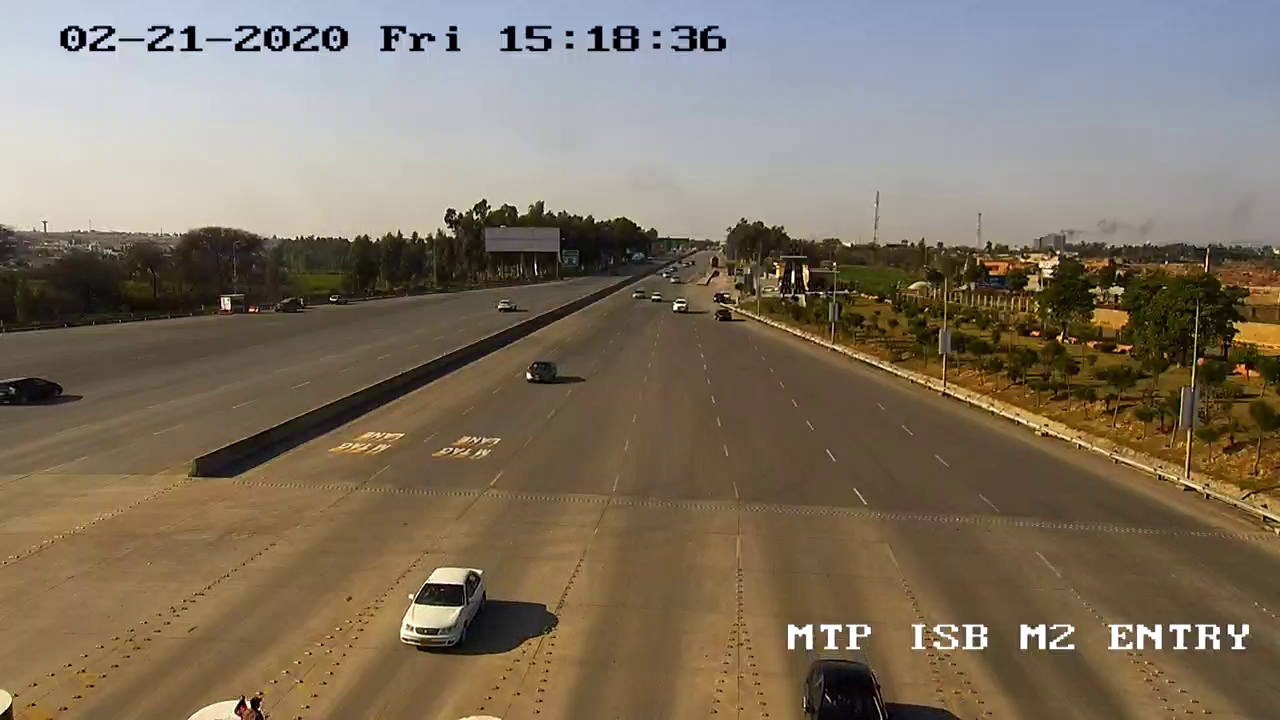f1: (393, 556, 493, 662)
